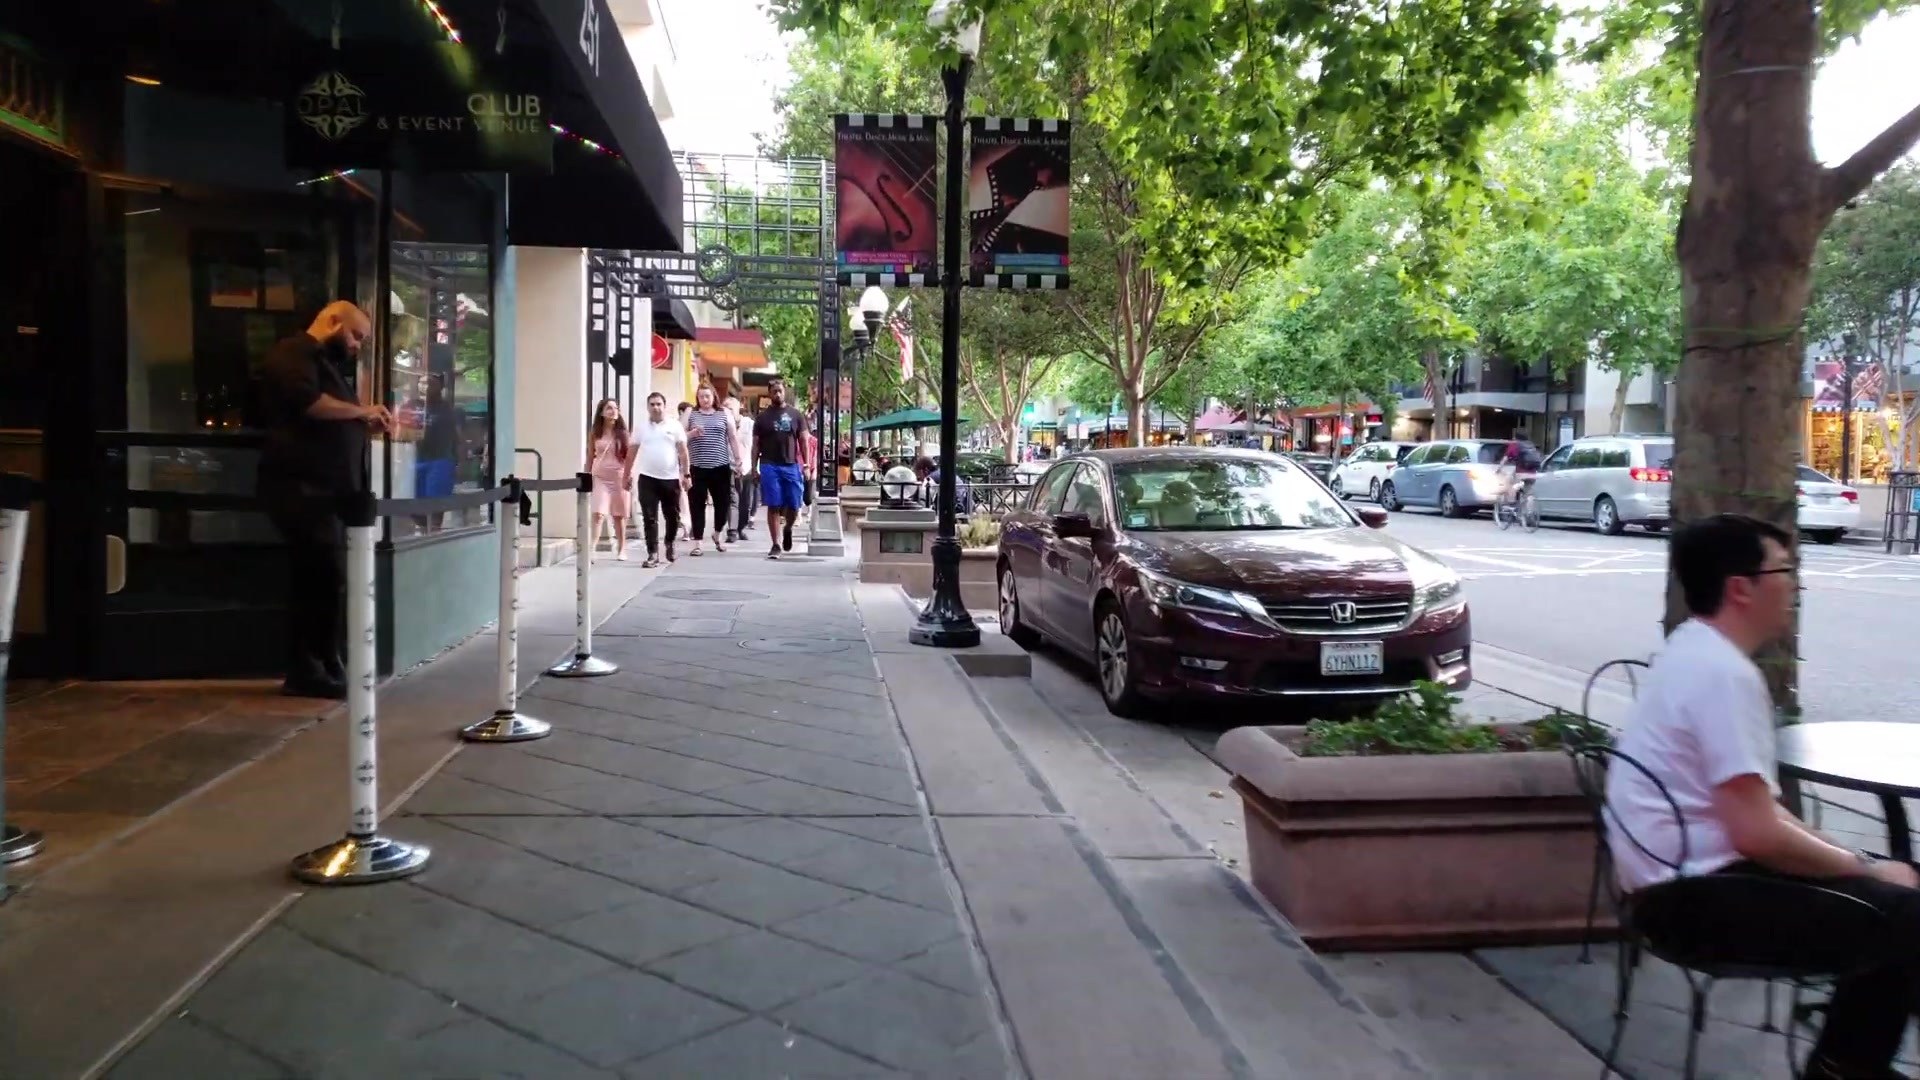vehicle: (994, 440, 1473, 715)
